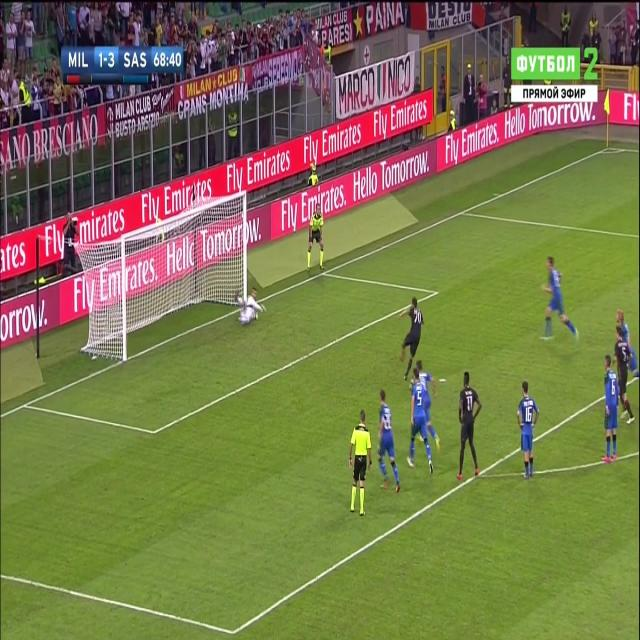Goalkeeper: (232, 282, 268, 326)
Player: (536, 254, 582, 346), (454, 368, 484, 483), (374, 386, 403, 495), (406, 371, 433, 480), (398, 297, 428, 382), (516, 378, 540, 481), (601, 353, 622, 465), (612, 324, 635, 426), (417, 359, 441, 448)
Referee: (347, 408, 374, 520), (305, 202, 328, 275)
